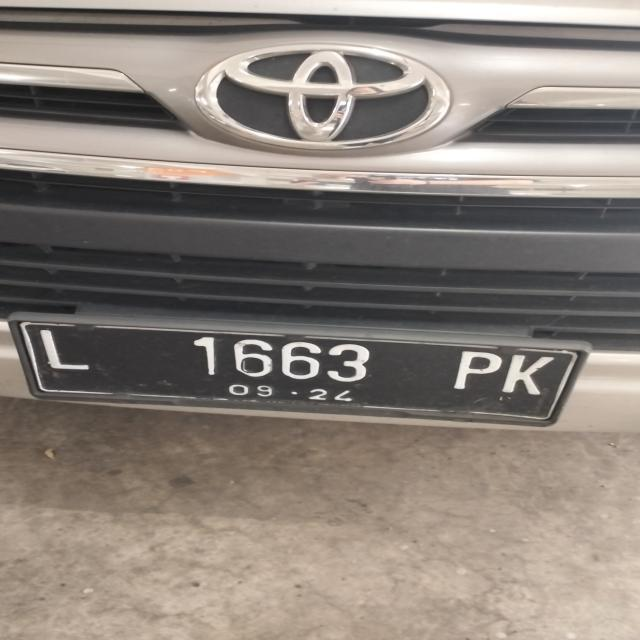1: (183, 334, 225, 378)
3: (322, 342, 372, 387)
6: (229, 334, 279, 378), (276, 337, 322, 383)
K: (502, 352, 552, 404)
L: (28, 328, 106, 376)
P: (449, 350, 503, 394)
